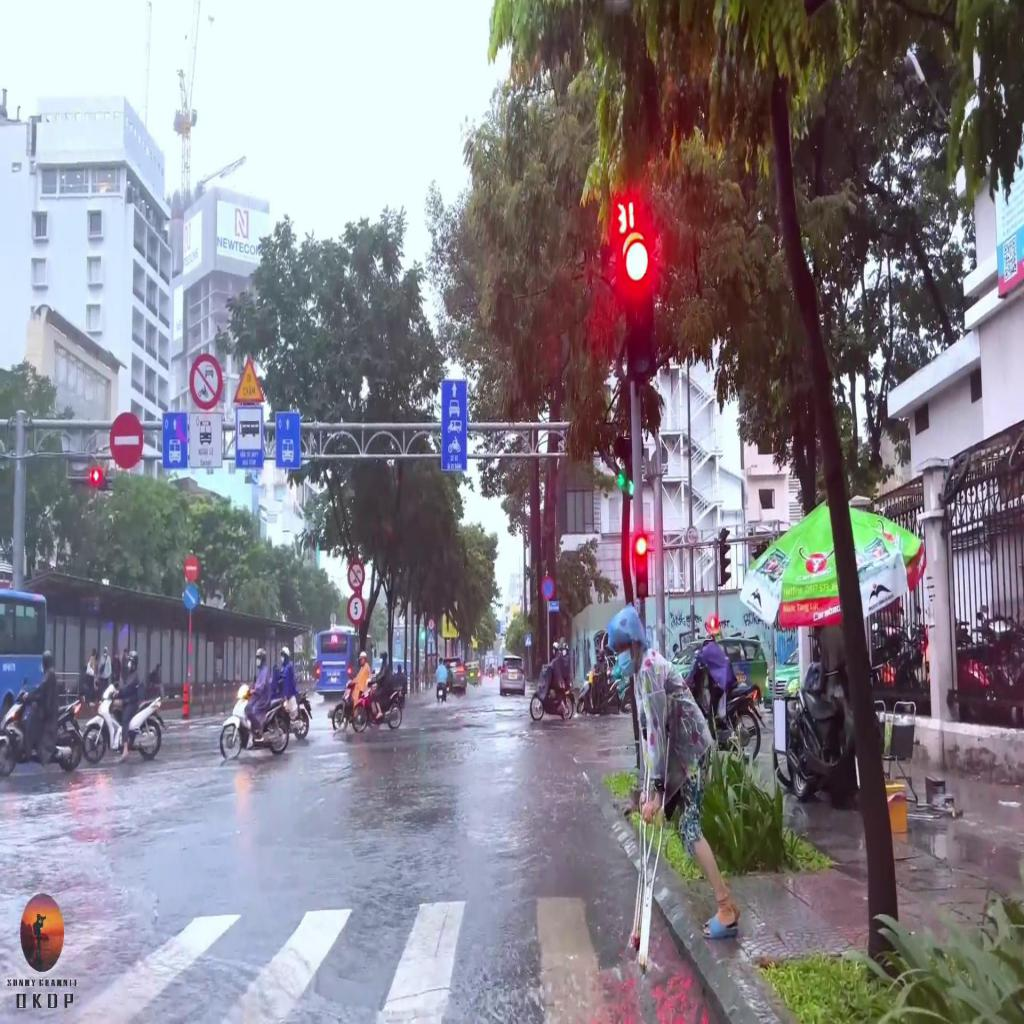cam_do_xe: (541, 576, 555, 599)
cam_xe_2_banh_va_xe_3_banh_co_dong_co: (347, 558, 365, 590)
cam_xe_di_nguoc_chieu: (109, 410, 142, 468), (185, 556, 198, 578)
di_cham: (234, 356, 264, 403)
huong_phai_di_vuot_chuong_ngai_vat_phai: (183, 586, 195, 609)
khac: (442, 378, 467, 470), (190, 412, 223, 468), (189, 354, 222, 410), (237, 407, 264, 466), (276, 414, 301, 468), (164, 414, 189, 468), (347, 592, 365, 623), (427, 619, 435, 633)
object: (526, 635, 532, 647)
